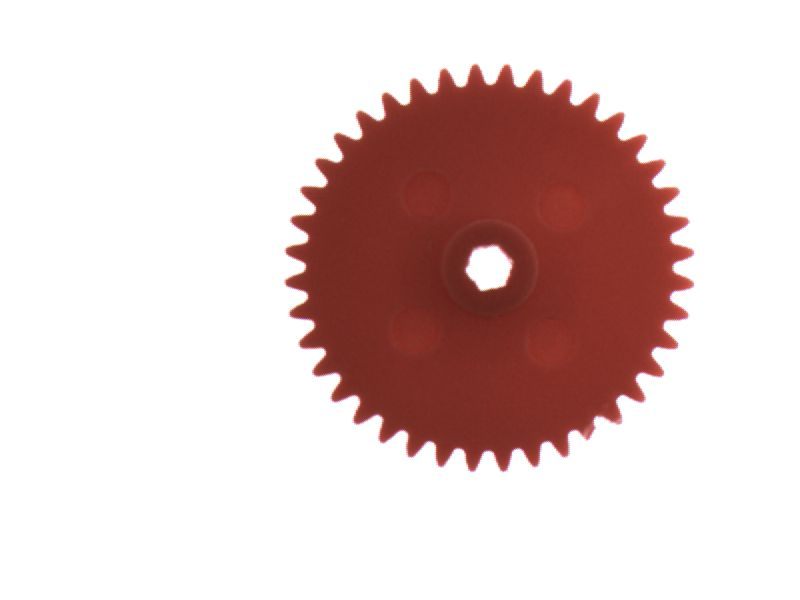defect_break: (567, 415, 612, 452)
